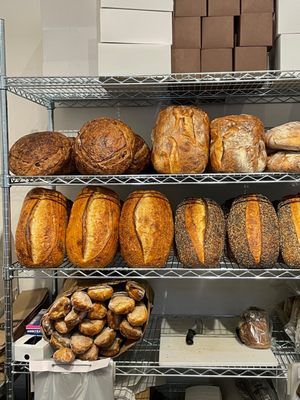soup: (277, 195, 300, 268)
